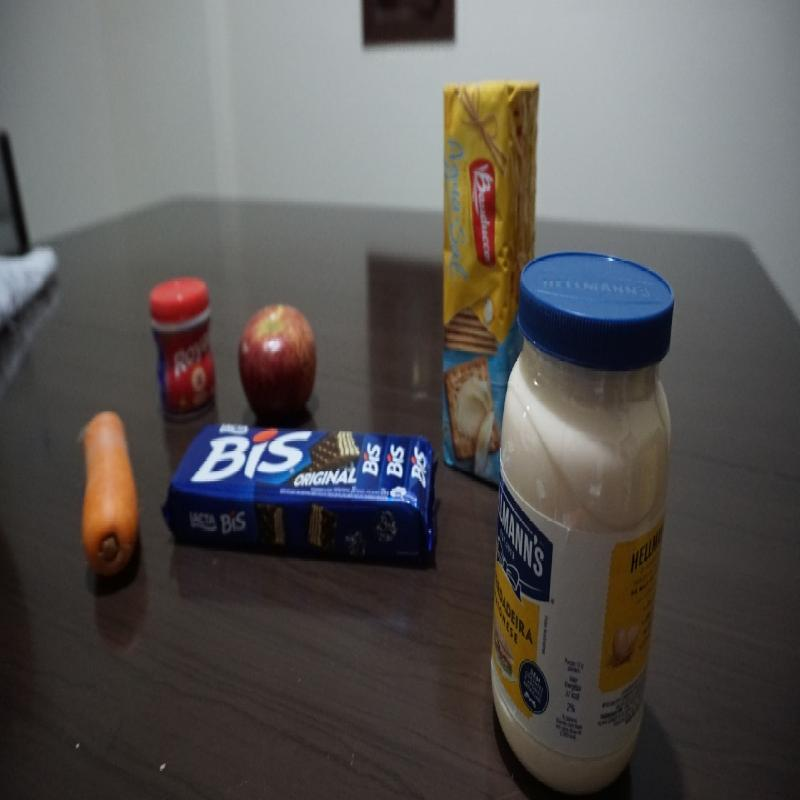Apple: (235, 304, 318, 420)
Carrot: (78, 413, 138, 588)
Cracker: (438, 74, 545, 498)
Mayonnaise: (490, 249, 681, 799)
Yeast: (149, 273, 220, 420)
